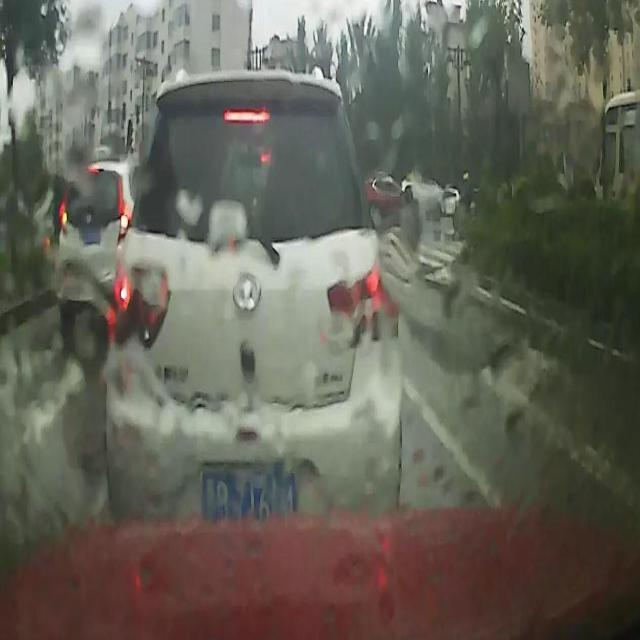car: (104, 67, 399, 522), (57, 162, 136, 306), (364, 167, 418, 232), (402, 168, 442, 210), (441, 186, 461, 222)
